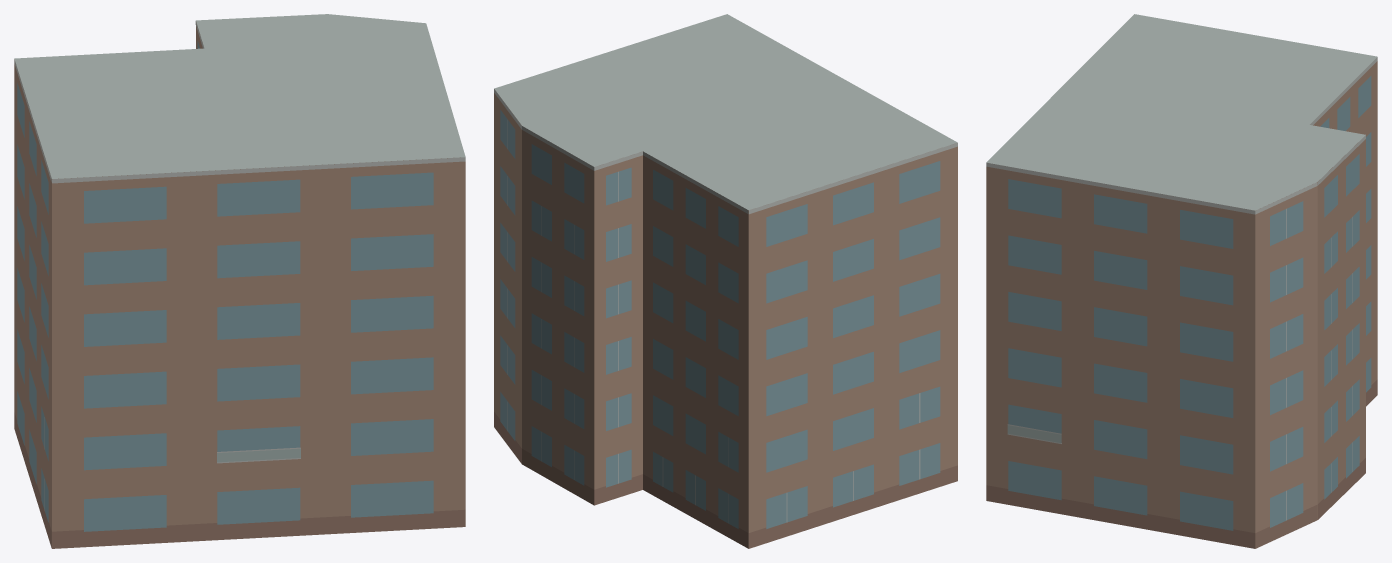
File: survey-upis-32851236.glb
3 renders of one model, left to right at view 1: azimuth 30°, elevation 25°; view 2: azimuth 150°, elevation 25°; view 3: azimuth 270°, elevation 25°, orthographic. The views are drawn at different scales.
Parts seen in each view (by area): view 1: survey-upis-32851236.tmp; view 2: survey-upis-32851236.tmp; view 3: survey-upis-32851236.tmp.
Part boxes in pixels (x1,y1,x2,y2): survey-upis-32851236.tmp: (14, 14, 465, 548); survey-upis-32851236.tmp: (494, 14, 957, 548); survey-upis-32851236.tmp: (986, 14, 1377, 548).
Bounding box in the file's own units: 25.94 × 20.8 × 21.82.
